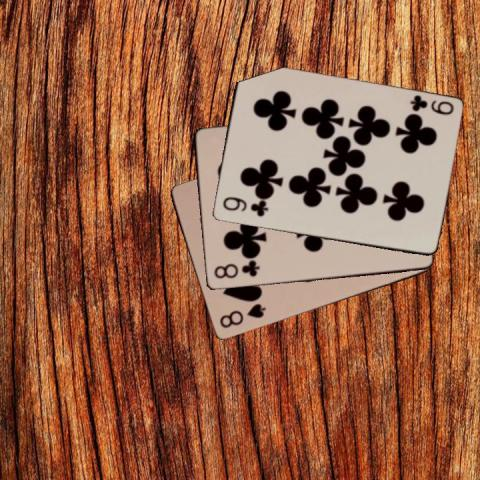8c: (210, 259, 260, 281)
8s: (216, 301, 267, 330)
9c: (220, 195, 270, 219), (406, 92, 454, 116)
